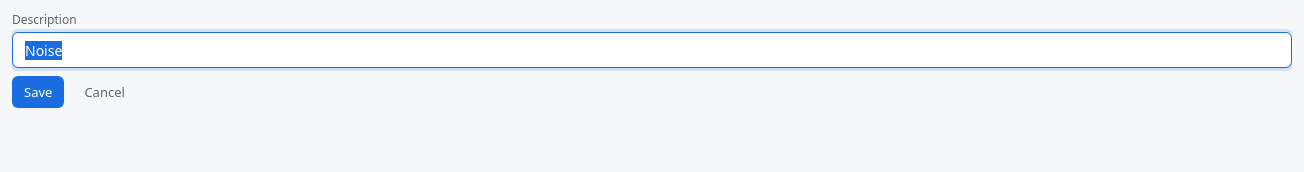
OrderInlineField › imperative save() › resolves false and keeps the editor open with the error when saving fails
Type "!" into the field named "Description".
click(652, 50); type("!")  # box 12,32 -> 1292,68
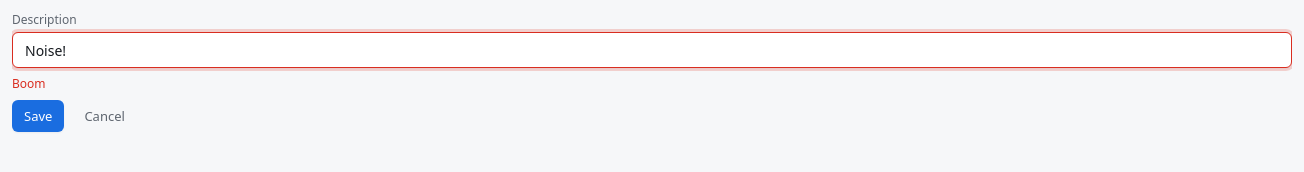
Check: the message reads "Boom", box 12,75 -> 46,92
